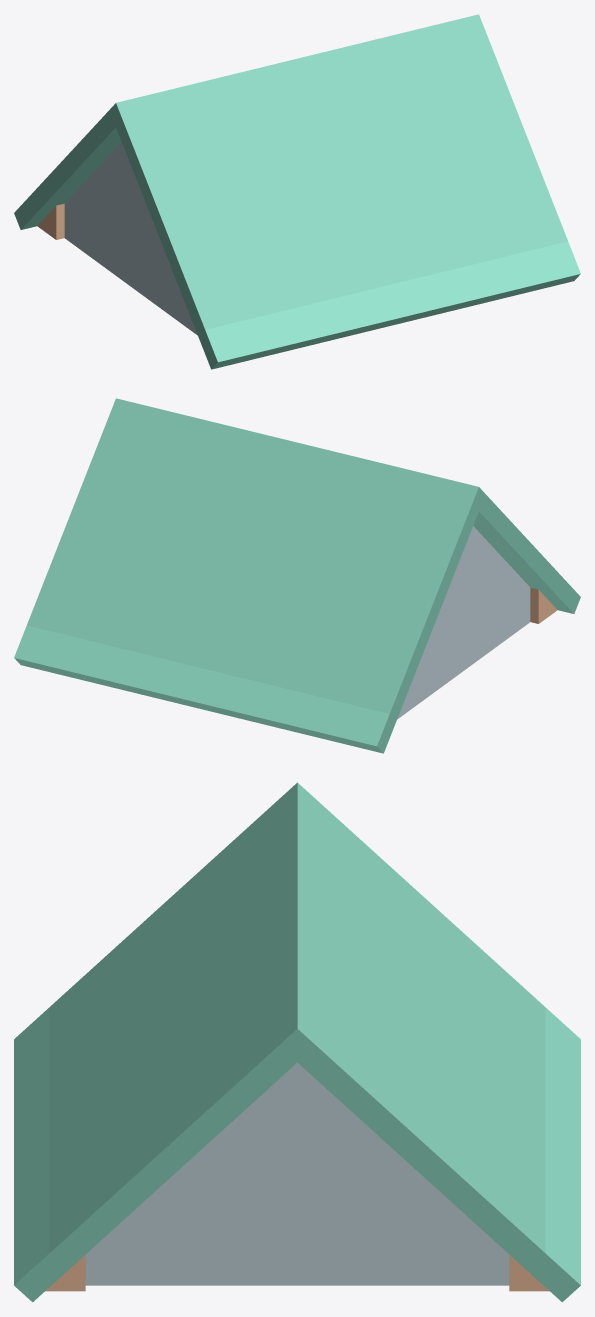
File: roofGable.glb
3 views of the same model, one above another, from view 1: azimuth 30°, elevation 25°; view 2: azimuth 150°, elevation 25°; view 3: azimuth 270°, elevation 25° (orthographic). The views are drawn at different scales.
Parts seen in each view (by area): view 1: roofGable; view 2: roofGable; view 3: roofGable.
Boxes of the visible parts, x1,y1,x2,y2 form: roofGable: (14,14,580,369); roofGable: (14,398,580,753); roofGable: (14,782,580,1302).
Bounding box in the file's own units: 1.1 × 0.5707 × 1.07.
